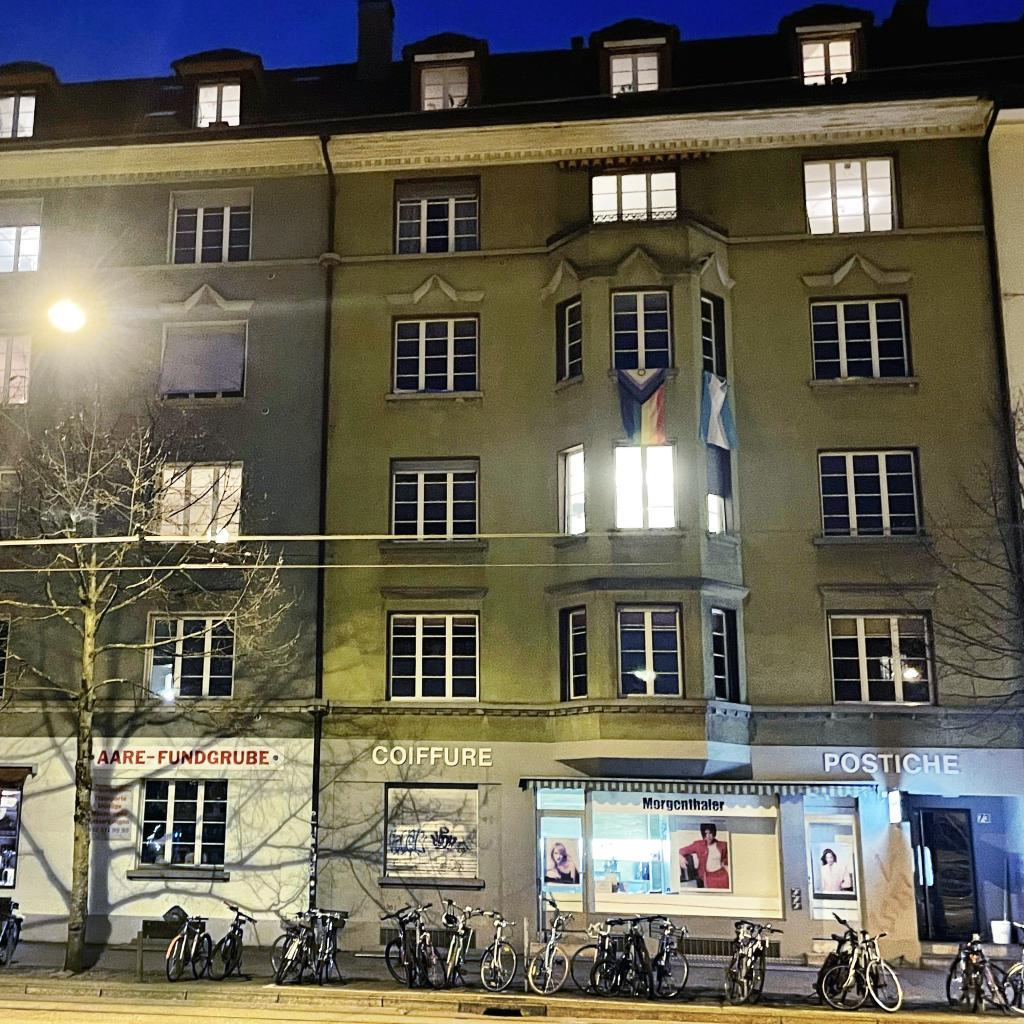facade: (0, 0, 1024, 714)
shop: (0, 713, 1024, 968)
street: (0, 977, 1024, 1024)
vegetation: (0, 330, 306, 973), (871, 378, 1024, 754)
window: (827, 609, 938, 704), (817, 448, 923, 535), (809, 296, 913, 381), (388, 610, 481, 702), (136, 778, 229, 870), (144, 612, 236, 701), (151, 458, 242, 544), (803, 156, 898, 236), (392, 458, 479, 544), (391, 314, 481, 396), (158, 320, 248, 399), (614, 602, 685, 699), (166, 187, 253, 266), (393, 176, 482, 253), (614, 441, 679, 530), (609, 286, 674, 370), (592, 168, 680, 224), (0, 199, 44, 272), (801, 33, 860, 86), (558, 446, 586, 540), (563, 606, 590, 703), (0, 329, 35, 403), (420, 62, 471, 112), (609, 50, 661, 98), (193, 77, 241, 128), (557, 292, 583, 382), (700, 290, 726, 379), (0, 86, 38, 140), (707, 445, 729, 534), (712, 608, 733, 701), (0, 463, 23, 542), (0, 615, 11, 699)
